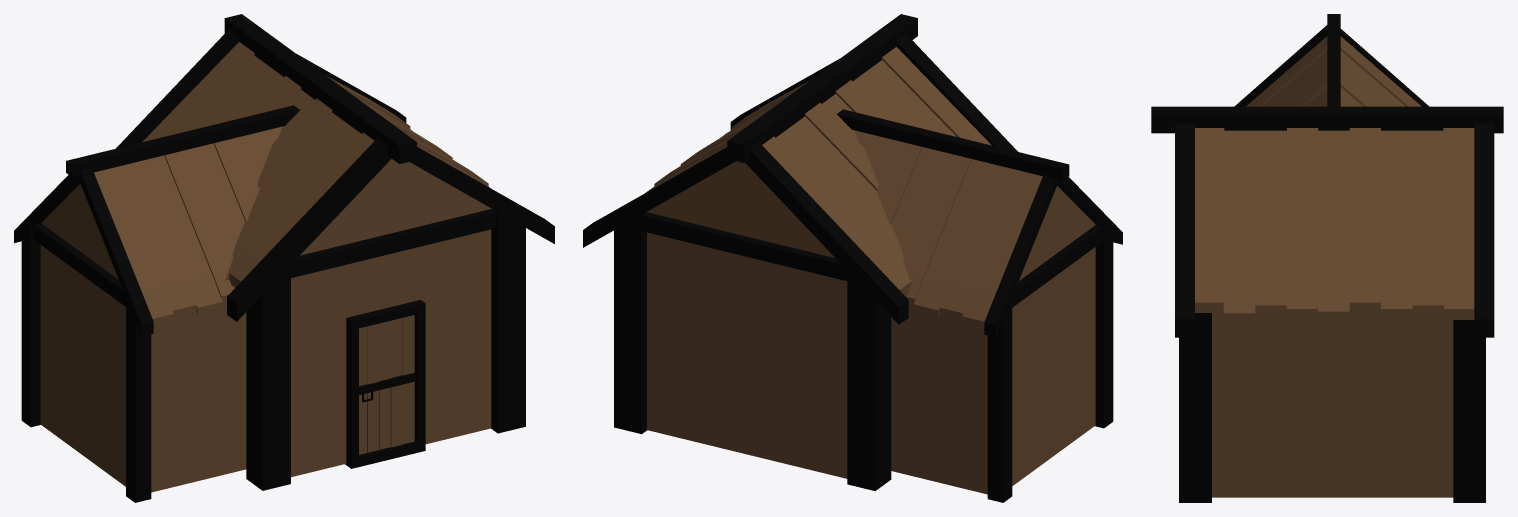
The model's file is 01_res_small_var2.fbx.
3 views of the same model, side by side, from view 1: azimuth 30°, elevation 25°; view 2: azimuth 150°, elevation 25°; view 3: azimuth 270°, elevation 25° (orthographic).
Visible parts, largest first — view 1: Cube.033; view 2: Cube.033; view 3: Cube.033.
Boxes of the visible parts, x1,y1,x2,y2 form: Cube.033: (14, 14, 554, 502); Cube.033: (583, 14, 1122, 502); Cube.033: (1151, 14, 1503, 502).
Bounding box in the file's own units: 61.44 × 47.05 × 45.77.
